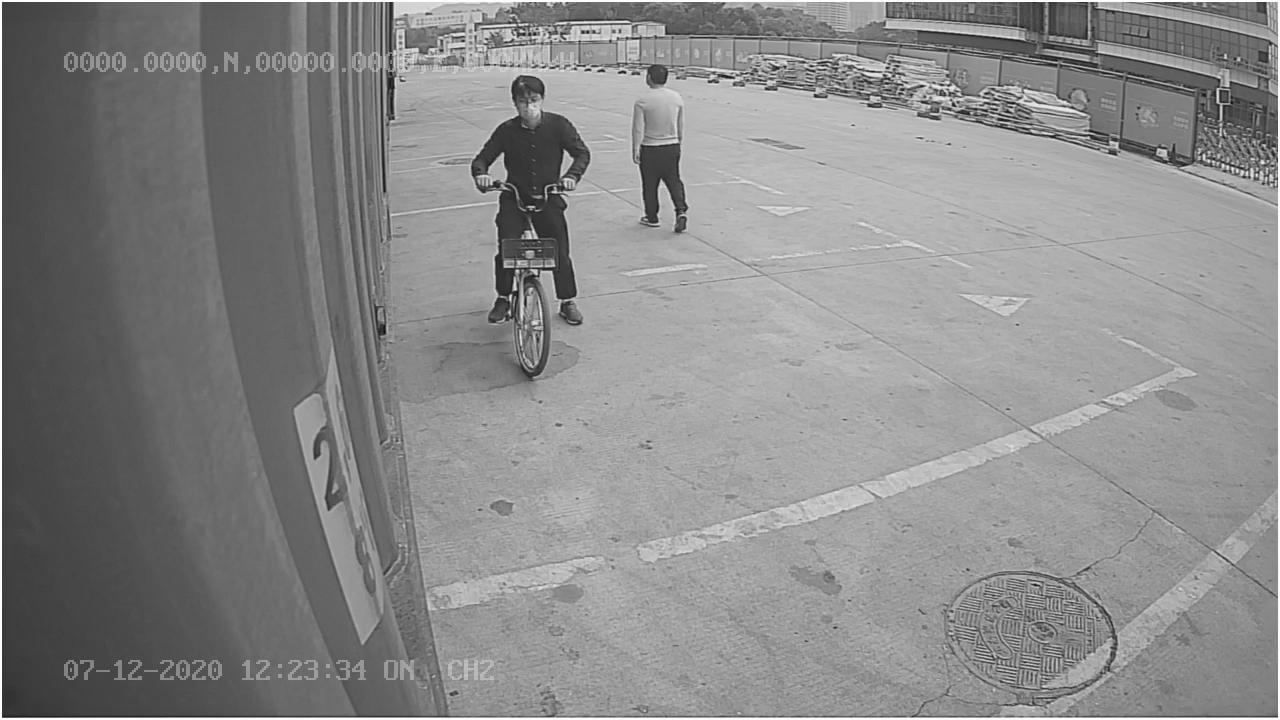person: (625, 60, 694, 238)
